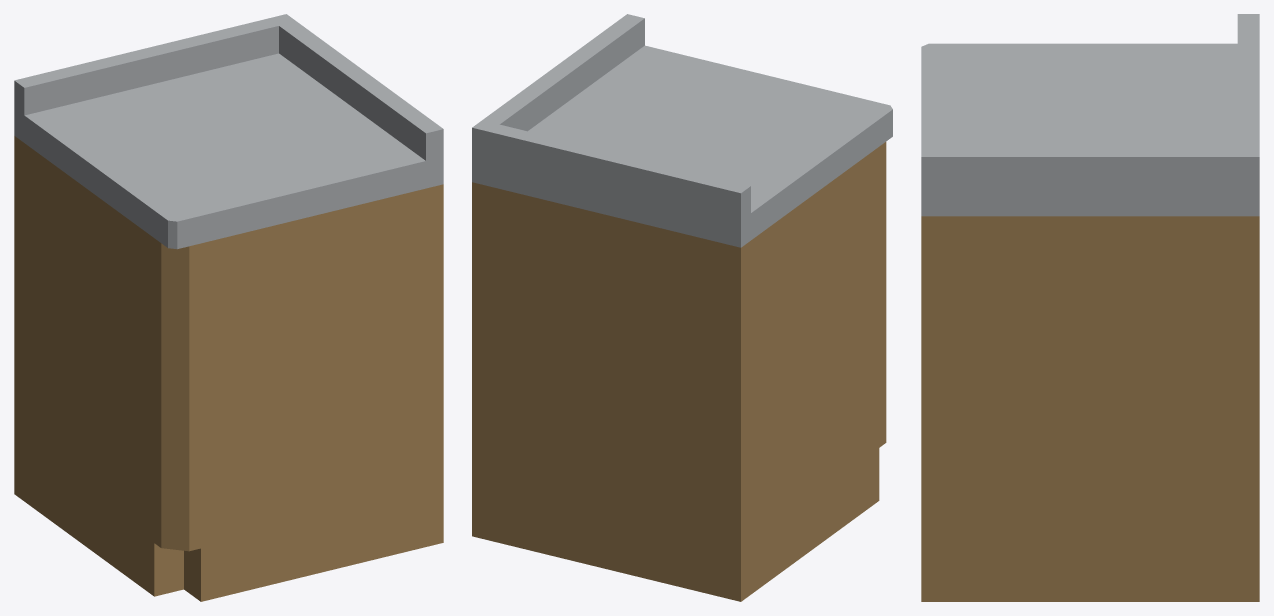
File: base_unit_corner.glb
3 views of the same model, side by side, from view 1: azimuth 30°, elevation 25°; view 2: azimuth 150°, elevation 25°; view 3: azimuth 270°, elevation 25° (orthographic). The views are drawn at different scales.
Visible parts, largest first — view 1: base_unit_corner; view 2: base_unit_corner; view 3: base_unit_corner.
Part boxes in pixels (x1,y1,x2,y2): base_unit_corner: [14, 14, 443, 601]; base_unit_corner: [472, 14, 892, 601]; base_unit_corner: [921, 14, 1259, 601].
Bounding box in the file's own units: 0.62 × 0.9 × 0.62.
